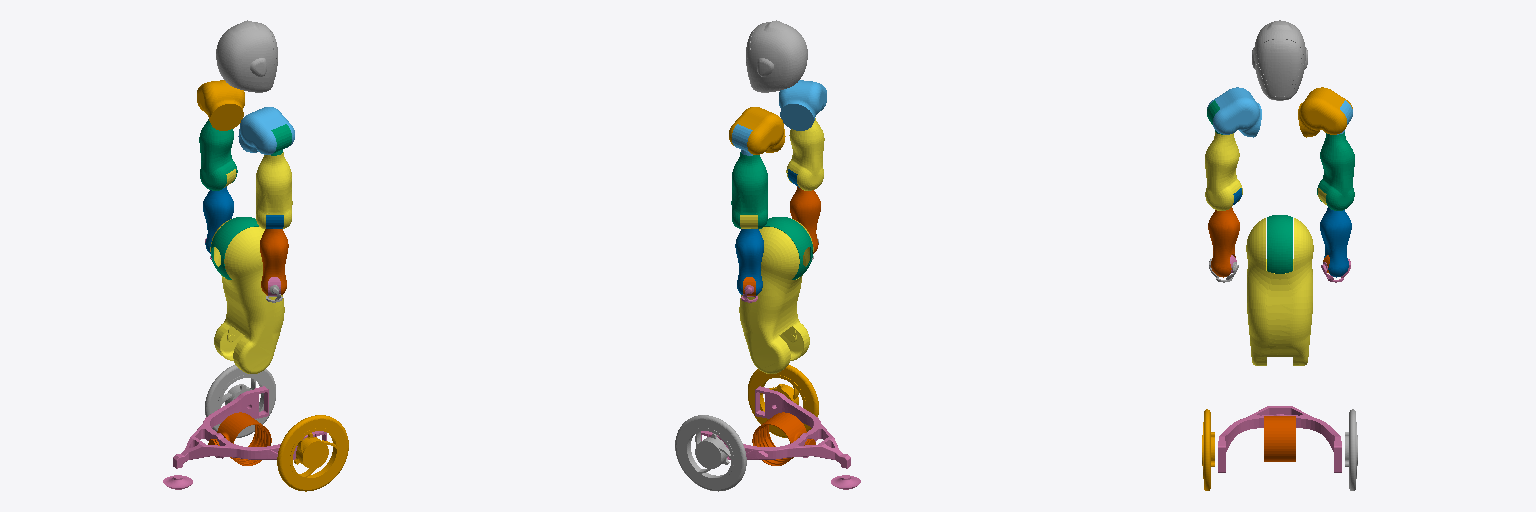
The robot description file, URDF, robot "Eve":
<?xml version="1.0" encoding="UTF-8" standalone="yes"?>
<robot xmlns:ns2="http://www.ros.org" xmlns:xi="http://www.w3.org/2003/XInclude" name="Eve">

  <link name="pelvis">
    <inertial>
      <origin xyz="-0.01035145 -0.00576441 0.41289202" rpy="0.0 0.0 0.0"/>
      <mass value="10.11628645"/>
      <inertia ixx="0.16934147" ixy="1.49E-4" ixz="0.00652485" iyy="0.1566806" iyz="-0.00748297" izz="0.05486492"/>
    </inertial>
    <visual>
      <origin xyz="0.0 0.0 0.0" rpy="1.5707963 0.0 1.5707963"/>
      <geometry>
        <mesh filename="../meshes/7dof_torso.obj" scale="1 1 1"/>
      </geometry>
    </visual>
    <collision>
      <origin xyz="0.0 0.0 0.0" rpy="1.5707963 0.0 1.5707963"/>
      <geometry>
        <sphere radius="0.12"/>
      </geometry>
    </collision>
  </link>
  <joint name="j_hip_z" type="revolute">
    <origin xyz="0.0 0.0 0.0" rpy="0.0 0.0 0.0"/>
    <parent link="pelvis"/>
    <child link="abdomen"/>
    <axis xyz="0.0 0.0 1.0"/>
    <limit lower="-1.0472" upper="1.0472" effort="-1.0" velocity="1.0"/>
  </joint>
  <transmission name="j_hip_z_trans">
	  <type>SimpleTransmission</type>
	  <joint name="j_hip_z">
	    <hardwareInterface>EffortJointInterface</hardwareInterface>
	  </joint>
	  <actuator name="j_hip_z_actuator">
	  </actuator>
  </transmission>

  <link name="abdomen">
    <inertial>
      <origin xyz="-0.05558735 0.00156974 0.13110756" rpy="0.0 0.0 0.0"/>
      <mass value="3.4381772"/>
      <inertia ixx="0.05607222" ixy="7.0118E-4" ixz="-0.01468099" iyy="0.05435718" iyz="-0.00188443" izz="0.02016737"/>
    </inertial>
    <visual>
      <origin xyz="0.0 0.0 0.0" rpy="1.5707963 0.0 1.5707963"/>
      <geometry>
        <mesh filename="../meshes/abdomen.obj" scale="1 1 1"/>
      </geometry>
    </visual>
  </link>
  <joint name="j_hip_x" type="revolute">
    <origin xyz="0.0 0.0 0.0" rpy="0.0 0.0 0.0"/>
    <parent link="abdomen"/>
    <child link="hip_x_link"/>
    <axis xyz="1.0 0.0 0.0"/>
    <limit lower="-0.523599" upper="0.523599" effort="-1.0" velocity="1.0"/>
  </joint>
  <link name="hip_x_link">
    <inertial>
      <origin xyz="-0.013462 -0.001267 -7.7E-5" rpy="0.0 0.0 0.0"/>
      <mass value="2.868669"/>
      <inertia ixx="0.013678" ixy="5.6E-5" ixz="-7.6E-4" iyy="0.014884" iyz="1.4E-5" izz="0.016484"/>
    </inertial>
    <visual>
      <origin xyz="0.0 0.0 0.0" rpy="1.5707963 0.0 1.5707963"/>
      <geometry>
        <mesh filename="../meshes/hip.obj" scale="1 1 1"/>
      </geometry>
    </visual>
  </link>
  <joint name="j_hip_y" type="revolute">
    <origin xyz="0.0 0.0 0.0" rpy="0.0 0.0 0.0"/>
    <parent link="hip_x_link"/>
    <child link="thigh"/>
    <axis xyz="0.0 1.0 0.0"/>
    <limit lower="-1.57" upper="0.174533" effort="-1.0" velocity="1.0"/>
  </joint>
  <link name="thigh">
    <inertial>
      <origin xyz="0.048668 0.002117 -0.216367" rpy="0.0 0.0 0.0"/>
      <mass value="12.846698"/>
      <inertia ixx="0.172201" ixy="-0.001348" ixz="0.012646" iyy="0.155119" iyz="-6.0E-4" izz="0.076153"/>
    </inertial>
    <visual>
      <origin xyz="0.0 0.0 0.0" rpy="1.5707963 0.0 1.5707963"/>
      <geometry>
        <mesh filename="../meshes/thigh.obj" scale="1 1 1"/>
      </geometry>
    </visual>
  </link>
  <joint name="j_knee_y" type="revolute">
    <origin xyz="0.0 0.0 -0.4" rpy="0.0 0.0 0.0"/>
    <parent link="thigh"/>
    <child link="shin"/>
    <axis xyz="0.0 1.0 0.0"/>
    <limit lower="0.0" upper="2.583" effort="-1.0" velocity="1.0"/>
  </joint>
  <link name="shin">
    <inertial>
      <origin xyz="0.019484 6.7E-5 -0.167324" rpy="0.0 0.0 0.0"/>
      <mass value="10.894892"/>
      <inertia ixx="0.191988" ixy="-2.08E-4" ixz="0.005202" iyy="0.176793" iyz="-3.45E-4" izz="0.049718"/>
    </inertial>
    <visual>
      <origin xyz="0.0 0.0 0.0" rpy="1.5707963 0.0 1.5707963"/>
      <geometry>
        <mesh filename="../meshes/shin.obj" scale="1 1 1"/>
      </geometry>
    </visual>
  </link>
  <joint name="j_ankle_y" type="revolute">
    <origin xyz="0.0 0.0 -0.38" rpy="0.0 0.0 0.0"/>
    <parent link="shin"/>
    <child link="ankle_y_link"/>
    <axis xyz="0.0 1.0 0.0"/>
    <limit lower="-1.57" upper="0.174533" effort="-1.0" velocity="1.0"/>
  </joint>
  <link name="ankle_y_link">
    <inertial>
      <origin xyz="-0.017821 0.001497 -6.49E-4" rpy="0.0 0.0 0.0"/>
      <mass value="2.656189"/>
      <inertia ixx="0.010249" ixy="-8.2E-5" ixz="2.65E-4" iyy="0.009117" iyz="9.0E-6" izz="0.013843"/>
    </inertial>
    <visual>
      <origin xyz="0.0 0.0 0.0" rpy="1.5707963 0.0 1.5707963"/>
      <geometry>
        <mesh filename="../meshes/ankle.obj" scale="1 1 1"/>
      </geometry>
    </visual>
  </link>
  <joint name="j_ankle_x" type="revolute">
    <origin xyz="0.0 0.0 0.0" rpy="0.0 0.0 0.0"/>
    <parent link="ankle_y_link"/>
    <child link="base"/>
    <axis xyz="1.0 0.0 0.0"/>
    <limit lower="-0.523599" upper="0.523599" effort="-1.0" velocity="1.0"/>
  </joint>
  <link name="base">
    <inertial>
      <origin xyz="0.021997 0.006327 -0.006204" rpy="0.0 0.0 0.0"/>
      <mass value="13.647499"/>
      <inertia ixx="0.461101" ixy="-0.004042" ixz="-0.020010" iyy="0.246583" iyz="-0.000110" izz="0.679520"/>
    </inertial>
    <visual>
      <origin xyz="0.0 0.0 0.0" rpy="1.5707963 0.0 1.5707963"/>
      <geometry>
        <mesh filename="../meshes/base_wheels.obj" scale="1 1 1"/>
        <!-- <box size=".5 .15 .5" /> -->
      </geometry>
    </visual>
    <collision>
      <origin xyz="-0.28 0.0 -0.08" rpy="1.5707963 0.0 1.5707963"/>
      <geometry>
        <sphere radius="0.05"/>
      </geometry>
    </collision>
    <collision>
      <origin xyz="0.0 0.0 0.0" rpy="1.5707963 0.0 1.5707963"/>
      <geometry>
        <!-- <mesh filename="../meshes/base_wheels.obj" scale="1 1 1"/> -->
        <box size=".4 .15 .6" />
      </geometry>
    </collision>
  </link>
  <joint name="j_l_wheel_y" type="continuous">
    <origin xyz="0.142 0.26983 0.019" rpy="0.0 0.0 0.0"/>
    <parent link="base"/>
    <child link="l_wheel"/>
    <axis xyz="0.0 1.0 0.0"/>
    <limit lower="-1.0E16" upper="1.0E16" effort="-1.0" velocity="1.0"/>
  </joint>
  <link name="l_wheel">
    <inertial>
      <origin xyz="0.0 0.0 0.0" rpy="0.0 0.0 0.0"/>
      <mass value="1.52693"/>
      <inertia ixx="0.007129" ixy="-0.0" ixz="-0.0" iyy="0.013685" iyz="-0.0" izz="0.007131"/>
    </inertial>
    <visual>
      <origin xyz="0.0 0.0 0.0" rpy="1.5707963 0.0 -1.5707963"/>
      <geometry>
        <mesh filename="../meshes/wheel.obj" scale="1 1 1"/>
        <!-- <cylinder length="0.02" radius="0.14"/> -->
      </geometry>
    </visual>
    <collision>
      <origin xyz="0.0 0.0 0.0" rpy="1.5707963 0.0 0.0"/>
      <geometry>
        <!-- <mesh filename="../meshes/wheel.obj" scale="1 1 1"/> -->
        <cylinder length="0.02" radius="0.14"/>
      </geometry>
    </collision>
  </link>
  <joint name="j_r_wheel_y" type="continuous">
    <origin xyz="0.142 -0.26983 0.019" rpy="0.0 0.0 0.0"/>
    <parent link="base"/>
    <child link="r_wheel"/>
    <axis xyz="0.0 1.0 0.0"/>
    <limit lower="-1.0E16" upper="1.0E16" effort="-1.0" velocity="1.0"/>
  </joint>
  <link name="r_wheel">
    <inertial>
      <origin xyz="0.0 0.0 0.0" rpy="0.0 0.0 0.0"/>
      <mass value="1.52693"/>
      <inertia ixx="0.007129" ixy="-0.0" ixz="-0.0" iyy="0.013685" iyz="-0.0" izz="0.007131"/>
    </inertial>
    <visual>
      <origin xyz="0.0 0.0 0.0" rpy="1.5707963 0.0 1.5707963"/>
      <geometry>
        <mesh filename="../meshes/wheel.obj" scale="1 1 1"/>
        <!-- <cylinder length="0.02" radius="0.14"/> -->
      </geometry>
    </visual>
    <collision>
      <origin xyz="0.0 0.0 0.0" rpy="1.5707963 0.0 0.0"/>
      <geometry>
        <cylinder length="0.02" radius="0.14"/>
        <!-- <mesh filename="../meshes/wheel.obj" scale="1 1 1"/> -->
      </geometry>
    </collision> 
  </link>
  <gazebo reference="pelvis">
    <sensor name="imu_sensor" type="imu">
      <always_on>1</always_on>
      <update_rate>1000</update_rate>
      <imu>
        <noise>
          <type>gaussian</type>
          <rate>
            <mean>0</mean>
            <stddev>0.0002</stddev>
            <bias_mean>7.5e-06</bias_mean>
            <bias_stddev>8e-07</bias_stddev>
          </rate>
          <accel>
            <mean>0</mean>
            <stddev>0.017</stddev>
            <bias_mean>0.1</bias_mean>
            <bias_stddev>0.001</bias_stddev>
          </accel>
        </noise>
      </imu>
      <pose frame="">0.0 0.0 0.142 0 0.0 0</pose>
    </sensor>
  </gazebo>


  <joint name="j_r_shoulder_y" type="revolute">
    <origin xyz="0.010525 -0.207221 0.545525" rpy="-0.253261563 0.0 0.261799"/>
    <parent link="pelvis"/>
    <child link="r_scapula"/>
    <axis xyz="0.0 1.0 0.0"/>
    <limit lower="-2.4240878" upper="0.981049573" effort="-1.0" velocity="1.0"/>
  </joint>
  <link name="r_scapula">
    <inertial>
      <origin xyz="6.1099E-4 0.06306661 0.03032448" rpy="0.0 0.0 0.0"/>
      <mass value="2.75566786"/>
      <inertia ixx="0.00936557" ixy="2.264E-5" ixz="-7.112E-5" iyy="0.01079015" iyz="8.423E-4" izz="0.01267759"/>
    </inertial>
    <visual>
      <origin xyz="0.0 0.0 0.0" rpy="1.5707963 1.5707963 0.0"/>
      <geometry>
        <mesh filename="../meshes/7dof_scapula.obj" scale="1 1 1"/>
      </geometry>
    </visual>
  </link>
  <joint name="j_r_shoulder_x" type="revolute">
    <origin xyz="0.0 0.0 0.0" rpy="0.253261563 0.0 0.0"/>
    <parent link="r_scapula"/>
    <child link="r_shoulder"/>
    <axis xyz="1.0 0.0 0.0"/>
    <limit lower="-2.0943951" upper="0.0872665" effort="-1.0" velocity="1.0"/>
  </joint>
  <link name="r_shoulder">
    <inertial>
      <origin xyz="0.0 -7.0614E-4 -0.01975465" rpy="0.0 0.0 0.0"/>
      <mass value="0.70264272"/>
      <inertia ixx="0.00115475" ixy="-3.2E-7" ixz="-1.4E-7" iyy="0.00143713" iyz="2.63E-6" izz="9.4633E-4"/>
    </inertial>
    <visual>
      <origin xyz="0.0 0.0 0.0" rpy="1.5708 0 0"/>
      <geometry>
        <mesh filename="../meshes/7dof_shoulder.obj" scale="1 1 1"/>
      </geometry>
    </visual>
  </link>
  <joint name="j_r_shoulder_z" type="revolute">
    <origin xyz="0.0 0.0 0.0" rpy="0.0 0.0 -0.261799"/>
    <parent link="r_shoulder"/>
    <child link="r_upper_arm"/>
    <axis xyz="0.0 0.0 1.0"/>
    <limit lower="0.0872665" upper="2.0943951" effort="-1.0" velocity="1.0"/>
  </joint>
  <link name="r_upper_arm">
    <inertial>
      <origin xyz="-0.0062579 3.507E-5 -0.17187666" rpy="0.0 0.0 0.0"/>
      <mass value="2.92531724"/>
      <inertia ixx="0.01341653" ixy="-6.4E-7" ixz="-2.9063E-4" iyy="0.01287847" iyz="-3.08E-6" izz="0.00487381"/>
    </inertial>
    <visual>
      <origin xyz="0.0 0.0 -0.314" rpy="1.5707963 0.0 1.5707963"/>
      <geometry>
        <mesh filename="../meshes/7dof_upper_arm.obj" scale="1 1 1"/>
      </geometry>
    </visual>
  </link>
  <joint name="j_r_elbow_y" type="revolute">
    <origin xyz="0.0 0.0 -0.313989" rpy="0.0 0.0 0.0"/>
    <parent link="r_upper_arm"/>
    <child link="r_elbow"/>
    <axis xyz="0.0 1 0.0"/>
    <limit lower="-2.18166" upper="0.0" effort="-1.0" velocity="1.0"/>
  </joint>
  <link name="r_elbow">
    <inertial>
      <origin xyz="5.494E-5 0.0 -0.00888504" rpy="0.0 0.0 0.0"/>
      <mass value="0.46261553"/>
      <inertia ixx="8.227E-4" ixy="-0.0" ixz="9.6E-7" iyy="3.6441E-4" iyz="-0.0" izz="6.1472E-4"/>
    </inertial>
    <visual>
      <origin xyz="0.0 0.0 0.0" rpy="1.5707963 0.0 1.5707963"/>
      <geometry>
        <mesh filename="../meshes/7dof_elbow.obj" scale="1 1 1"/>
      </geometry>
    </visual>
    <collision>
      <origin xyz="0.0 0.0 0.0" rpy="1.5707963 0.0 1.5707963"/>
      <geometry>
        <sphere radius="0.07"/>
      </geometry>
    </collision>
  </link>
  <joint name="j_r_elbow_z" type="revolute">
    <origin xyz="0.0 0.0 0.0" rpy="0.0 0.0 0.0"/>
    <parent link="r_elbow"/>
    <child link="r_lower_arm"/>
    <axis xyz="0.0 0.0 1"/>
    <limit lower="-0.7854" upper="1.5708" effort="-1.0" velocity="1.0"/>
  </joint>
  <link name="r_lower_arm">
    <inertial>
      <origin xyz="-4.326E-5 3.091E-5 -0.13751046" rpy="0.0 0.0 0.0"/>
      <mass value="1.63933464"/>
      <inertia ixx="0.00678741" ixy="1.11E-6" ixz="-1.253E-5" iyy="0.00706746" iyz="1.485E-5" izz="0.00183806"/>
    </inertial>
    <visual>
      <origin xyz="0.0 0.0 -0.292850" rpy="1.5707963 0.0 1.5707963"/>
      <geometry>
        <mesh filename="../meshes/7dof_forearm.obj" scale="1 1 1"/>
      </geometry>
    </visual>
  </link>
  <joint name="j_r_wrist_y" type="revolute">
    <origin xyz="0.0 0.0 -0.292850" rpy="0.0 0.0 0.0"/>
    <parent link="r_lower_arm"/>
    <child link="r_wrist"/>
    <axis xyz="0.0 1 0.0"/>
    <limit lower="-0.785398" upper="0.785398" effort="-1.0" velocity="1.0"/>
  </joint>
  <link name="r_wrist">
    <inertial>
      <origin xyz="0.00240142 7.9666E-4 -0.00125392" rpy="0.0 0.0 0.0"/>
      <mass value="0.30363399"/>
      <inertia ixx="1.8188E-4" ixy="2.27E-6" ixz="-2.16E-6" iyy="1.6139E-4" iyz="-9.5E-7" izz="2.7335E-4"/>
    </inertial>
    <visual>
      <origin xyz="0.0 0.0 0.0" rpy="1.5707963 0.0 1.5707963"/>
      <geometry>
        <mesh filename="../meshes/7dof_wrist.obj" scale="1 1 1"/>
      </geometry>
    </visual>
  </link>
  <joint name="j_r_wrist_x" type="revolute">
    <origin xyz="0.0 0.0 0.0" rpy="0.0 0.0 0.0"/>
    <parent link="r_wrist"/>
    <child link="r_palm"/>
    <axis xyz="1 0.0 0.0"/>
    <limit lower="-0.523599" upper="1.5708" effort="-1.0" velocity="1.0"/>
  </joint>
  <link name="r_palm">
    <inertial>
      <origin xyz="0.00618476 -0.00346679 -0.01888817" rpy="0.0 0.0 0.0"/>
      <mass value="0.1486378"/>
      <inertia ixx="1.177E-4" ixy="-2.72E-6" ixz="-1.656E-5" iyy="2.8407E-4" iyz="-5.49E-6" izz="2.1805E-4"/>
    </inertial>
    <visual>
      <origin xyz="0.0 0.0 0.0" rpy="-1.5707963 0.0 0.0"/>
      <geometry>
        <mesh filename="../meshes/7dof_palm.obj" scale="1 1 1"/>
      </geometry>
    </visual>
    <collision>
      <origin xyz="0.0 0.0 0.0" rpy="-1.5707963 0.0 3.14159"/>
      <geometry>
        <sphere radius="0.05"/>
      </geometry>
    </collision>
  </link>


  <joint name="j_l_shoulder_y" type="revolute">
    <origin xyz="0.010525 0.207221 0.545525" rpy="0.253261563 0.0 -0.261799"/>
    <parent link="pelvis"/>
    <child link="l_scapula"/>
    <axis xyz="0.0 1.0 0.0"/>
    <limit lower="-2.4240878" upper="0.981049573" effort="-1.0" velocity="1.0"/>
  </joint>
  <link name="l_scapula">
    <inertial>
      <origin xyz="-6.1099E-4 -0.06306661 0.03032448" rpy="0.0 0.0 0.0"/>
      <mass value="2.75566786"/>
      <inertia ixx="0.00936557" ixy="2.264E-5" ixz="7.112E-5" iyy="0.01079015" iyz="-8.423E-4" izz="0.01267759"/>
    </inertial>
    <visual>
      <origin xyz="0.0 0.0 0.0" rpy="0.0 1.5707963 1.5707963"/>
      <geometry>
        <mesh filename="../meshes/7dof_scapula.obj" scale="1 1 1"/>
      </geometry>
    </visual>
  </link>
  <joint name="j_l_shoulder_x" type="revolute">
    <origin xyz="0.0 0.0 0.0" rpy="-0.253261563 0.0 0.0"/>
    <parent link="l_scapula"/>
    <child link="l_shoulder"/>
    <axis xyz="1.0 0.0 0.0"/>
    <limit lower="-0.0872665" upper="2.0943951" effort="-1.0" velocity="1.0"/>
  </joint>
  <link name="l_shoulder">
    <inertial>
      <origin xyz="0.0 7.0624E-4 -0.01975437" rpy="0.0 0.0 0.0"/>
      <mass value="0.70265653"/>
      <inertia ixx="0.00115475" ixy="-3.2E-7" ixz="1.3E-7" iyy="0.00143715" iyz="-2.63E-6" izz="9.4634E-4"/>
    </inertial>
    <visual>
      <origin xyz="0.0 0.0 0.0" rpy="1.5708 0.0 0.0"/>
      <geometry>
        <mesh filename="../meshes/7dof_shoulder.obj" scale="1 1 1"/>
      </geometry>
    </visual>
  </link>
  <joint name="j_l_shoulder_z" type="revolute">
    <origin xyz="0.0 0.0 0.0" rpy="0.0 0.0 0.261799"/>
    <parent link="l_shoulder"/>
    <child link="l_upper_arm"/>
    <axis xyz="0.0 0.0 1.0"/>
    <limit lower="-2.0943951" upper="-0.0872665" effort="-1.0" velocity="1.0"/>
  </joint>
  <link name="l_upper_arm">
    <inertial>
      <origin xyz="-0.0062579 3.507E-5 -0.17187666" rpy="0.0 0.0 0.0"/>
      <mass value="2.92531724"/>
      <inertia ixx="0.01341653" ixy="-6.4E-7" ixz="-2.9063E-4" iyy="0.01287847" iyz="-3.08E-6" izz="0.00487381"/>
    </inertial>
    <visual>
      <origin xyz="0.0 0.0 -0.314" rpy="1.5707963 0.0 1.5707963"/>
      <geometry>
        <mesh filename="../meshes/7dof_upper_arm.obj" scale="1 1 1"/>
      </geometry>
    </visual>
  </link>
  <joint name="j_l_elbow_y" type="revolute">
    <origin xyz="0.0 0.0 -0.313989" rpy="0.0 0.0 0.0"/>
    <parent link="l_upper_arm"/>
    <child link="l_elbow"/>
    <axis xyz="0.0 1.0 0.0"/>
    <limit lower="-2.18166" upper="0.0" effort="-1.0" velocity="1.0"/>
  </joint>
  <link name="l_elbow">
    <inertial>
      <origin xyz="5.494E-5 0.0 -0.00888504" rpy="0.0 0.0 0.0"/>
      <mass value="0.46261553"/>
      <inertia ixx="8.227E-4" ixy="-0.0" ixz="9.6E-7" iyy="3.6441E-4" iyz="-0.0" izz="6.1472E-4"/>
    </inertial>
    <visual>
      <origin xyz="0.0 0.0 0.0" rpy="1.5707963 0.0 1.5707963"/>
      <geometry>
        <mesh filename="../meshes/7dof_elbow.obj" scale="1 1 1"/>
      </geometry>
    </visual>
    <collision>
      <origin xyz="0.0 0.0 0.0" rpy="1.5707963 0.0 1.5707963"/>
      <geometry>
        <sphere radius="0.07"/>
      </geometry>
    </collision>
  </link>
  <joint name="j_l_elbow_z" type="revolute">
    <origin xyz="0.0 0.0 0.0" rpy="0.0 0.0 0.0"/>
    <parent link="l_elbow"/>
    <child link="l_lower_arm"/>
    <axis xyz="0.0 0.0 1.0"/>
    <limit lower="-1.5708" upper="0.7854" effort="-1.0" velocity="1.0"/>
  </joint>
  <link name="l_lower_arm">
    <inertial>
      <origin xyz="-4.326E-5 3.091E-5 -0.13751046" rpy="0.0 0.0 0.0"/>
      <mass value="1.63933464"/>
      <inertia ixx="0.00678741" ixy="1.11E-6" ixz="-1.253E-5" iyy="0.00706746" iyz="1.485E-5" izz="0.00183806"/>
    </inertial>
    <visual>
      <origin xyz="0.0 0.0 -0.29285" rpy="1.5707963 0.0 1.5707963"/>
      <geometry>
        <mesh filename="../meshes/7dof_forearm.obj" scale="1 1 1"/>
      </geometry>
    </visual>
  </link>
  <joint name="j_l_wrist_y" type="revolute">
    <origin xyz="0.0 0.0 -0.29285" rpy="0.0 0.0 0.0"/>
    <parent link="l_lower_arm"/>
    <child link="l_wrist"/>
    <axis xyz="0.0 1.0 0.0"/>
    <limit lower="-0.785398" upper="0.785398" effort="-1.0" velocity="1.0"/>
  </joint>
  <link name="l_wrist">
    <inertial>
      <origin xyz="0.00240142 7.9666E-4 -0.00125392" rpy="0.0 0.0 0.0"/>
      <mass value="0.30363399"/>
      <inertia ixx="1.8188E-4" ixy="2.27E-6" ixz="-2.16E-6" iyy="1.6139E-4" iyz="-9.5E-7" izz="2.7335E-4"/>
    </inertial>
    <visual>
      <origin xyz="0.0 0.0 0.0" rpy="1.5707963 0.0 1.5707963"/>
      <geometry>
        <mesh filename="../meshes/7dof_wrist.obj" scale="1 1 1"/>
      </geometry>
    </visual>
  </link>
  <joint name="j_l_wrist_x" type="revolute">
    <origin xyz="0.0 0.0 0.0" rpy="0.0 0.0 0.0"/>
    <parent link="l_wrist"/>
    <child link="l_palm"/>
    <axis xyz="1.0 0.0 0.0"/>
    <limit lower="-1.5708" upper="0.523599" effort="-1.0" velocity="1.0"/>
  </joint>
  <link name="l_palm">
    <inertial>
      <origin xyz="0.00618476 -0.00346679 -0.01888817" rpy="0.0 0.0 0.0"/>
      <mass value="0.1486378"/>
      <inertia ixx="1.177E-4" ixy="-2.72E-6" ixz="-1.656E-5" iyy="2.8407E-4" iyz="-5.49E-6" izz="2.1805E-4"/>
    </inertial>
    <visual>
      <origin xyz="0.0 0.0 0.0" rpy="-1.5707963 0.0 3.14159"/>
      <geometry>
        <mesh filename="../meshes/7dof_palm.obj" scale="1 1 1"/>
      </geometry>
    </visual>
    <collision>
      <origin xyz="0.0 0.0 0.0" rpy="-1.5707963 0.0 3.14159"/>
      <geometry>
        <sphere radius="0.05"/>
      </geometry>
    </collision>
  </link>

  <joint name="j_neck_y" type="revolute">
    <origin xyz="-0.004458 0.0 0.680766" rpy="0.0 0.0 0.0"/>
    <parent link="pelvis"/>
    <child link="head"/>
    <axis xyz="0.0 1 0.0"/>
    <limit lower="-0.0872664626" upper="0.698132" effort="-1.0" velocity="1.0"/>
  </joint>
  <link name="head">
    <inertial>
      <origin xyz="0.01272383 -0.00326913 0.07053205" rpy="0.0 0.0 0.0"/>
      <mass value="2.355"/>
      <inertia ixx="0.01719944" ixy="-8.079E-5" ixz="-0.0013284" iyy="0.0196904" iyz="2.3833E-4" izz="0.0077437"/>
    </inertial>
    <visual>
      <origin xyz="0.0 0.0 0.0" rpy="1.5707963 0.0 1.5707963"/>
      <geometry>
        <mesh filename="../meshes/head.obj" scale="1 1 1"/>
      </geometry>
    </visual>
    <collision>
      <origin xyz="0.0 0.0 0.1" rpy="1.5707963 0.0 1.5707963"/>
      <geometry>
        <sphere radius="0.12"/>
      </geometry>
    </collision>
  </link>
  <gazebo reference="head">
    <sensor name="realsense" type="camera">
      <camera>
        <image>
          <width>640</width>
          <height>480</height>
          <format>R8G8B8</format>
        </image>
        <horizontal_fov>1.487021</horizontal_fov>
        <clip>
          <near>0.2</near>
          <far>10</far>
        </clip>
      </camera>
      <update_rate>6</update_rate>
      <pose frame="">0.116669 0 0.17015 0 0.174533 0</pose>
    </sensor>
  </gazebo>

</robot>

--- What the picture shows (computed from the rendered views, not written in the file) ---
3 views of the same robot in one strip: view 1: azimuth 30°, elevation 25°; view 2: azimuth 150°, elevation 25°; view 3: azimuth 270°, elevation 25° (orthographic).
Robot: Eve — 24 links, 23 joints (21 revolute, 2 continuous); root link pelvis; default pose: all joints at 0 but 2 set to mid-range because 0 is outside their limits (j_r_shoulder_z = 1.09, j_l_shoulder_z = -1.09).
Visible links, largest first — view 1: thigh, r_wheel, head, base, r_upper_arm, l_wheel, l_upper_arm, l_scapula, r_scapula, r_lower_arm, ankle_y_link, l_lower_arm (+1 smaller); view 2: thigh, l_wheel, head, base, l_upper_arm, r_wheel, r_upper_arm, r_scapula, l_scapula, l_lower_arm, ankle_y_link, r_lower_arm (+1 smaller); view 3: thigh, head, l_upper_arm, r_upper_arm, base, r_scapula, l_scapula, r_lower_arm, l_lower_arm, hip_x_link, ankle_y_link, l_wheel (+1 smaller).
Link boxes in pixels (x1,y1,x2,y2): thigh: [210, 219, 284, 373]; r_wheel: [277, 415, 348, 491]; head: [216, 20, 277, 92]; base: [163, 386, 326, 489]; r_upper_arm: [256, 152, 292, 228]; l_wheel: [205, 365, 275, 437]; l_upper_arm: [199, 119, 237, 190]; l_scapula: [197, 80, 244, 130]; r_scapula: [238, 107, 294, 154]; r_lower_arm: [260, 229, 288, 295]; ankle_y_link: [208, 412, 271, 465]; l_lower_arm: [203, 186, 233, 253]; thigh: [739, 219, 813, 373]; l_wheel: [675, 415, 746, 491]; head: [746, 20, 807, 92]; base: [701, 386, 860, 489]; l_upper_arm: [731, 152, 767, 228]; r_wheel: [748, 365, 818, 437]; r_upper_arm: [786, 118, 824, 190]; r_scapula: [779, 80, 826, 130]; l_scapula: [729, 107, 785, 154]; l_lower_arm: [735, 229, 763, 295]; ankle_y_link: [752, 412, 815, 465]; r_lower_arm: [790, 186, 820, 253]; thigh: [1246, 218, 1313, 365]; head: [1252, 20, 1307, 100]; l_upper_arm: [1317, 132, 1354, 210]; r_upper_arm: [1205, 132, 1242, 210]; base: [1218, 406, 1341, 472]; r_scapula: [1207, 87, 1261, 137]; l_scapula: [1298, 87, 1352, 137]; r_lower_arm: [1208, 207, 1239, 277]; l_lower_arm: [1320, 207, 1351, 277]; hip_x_link: [1267, 215, 1292, 273]; ankle_y_link: [1264, 416, 1295, 461]; l_wheel: [1345, 409, 1357, 490].
Size in the robot's own frame: 0.6336 by 0.5797 by 1.84 metres.
21 mesh visuals loaded from 16 distinct referenced files (13 OBJ); not drawn: 3 (reference not matched to a file when rendering).
